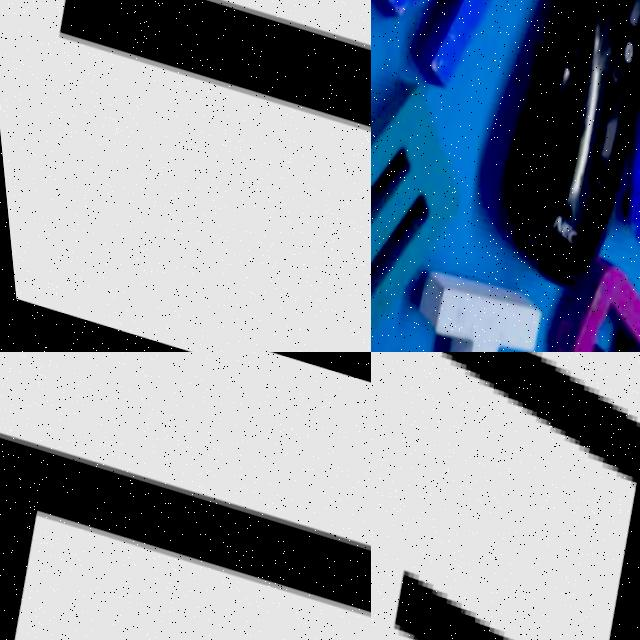B: (597, 78, 640, 262)
G: (511, 233, 640, 352)
H: (371, 352, 640, 640), (371, 250, 548, 352)
I: (39, 0, 371, 189)
L: (0, 408, 371, 640)
M: (371, 52, 489, 352)
